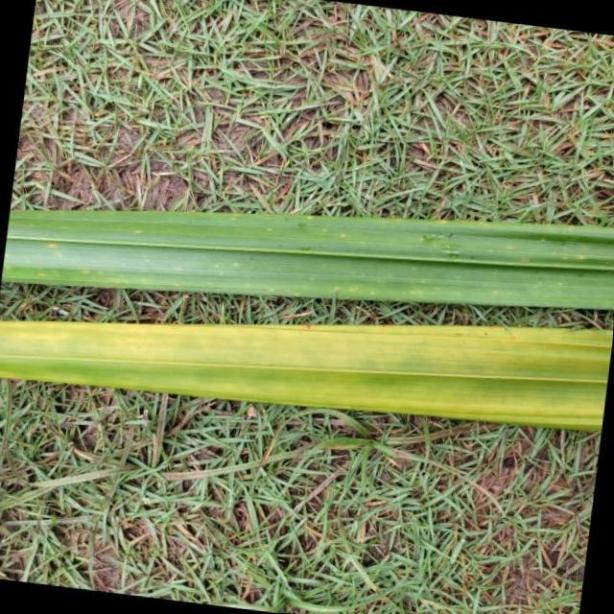nitrogen: (0, 315, 614, 427), (6, 205, 614, 313)
